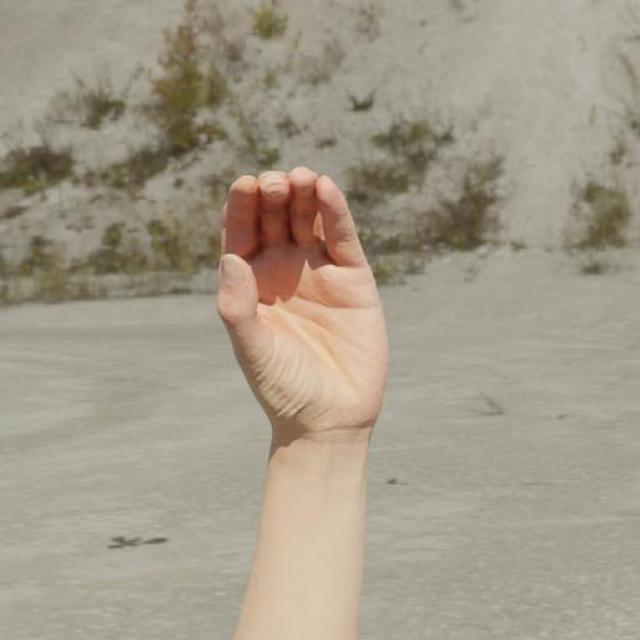C: (213, 166, 393, 438)
